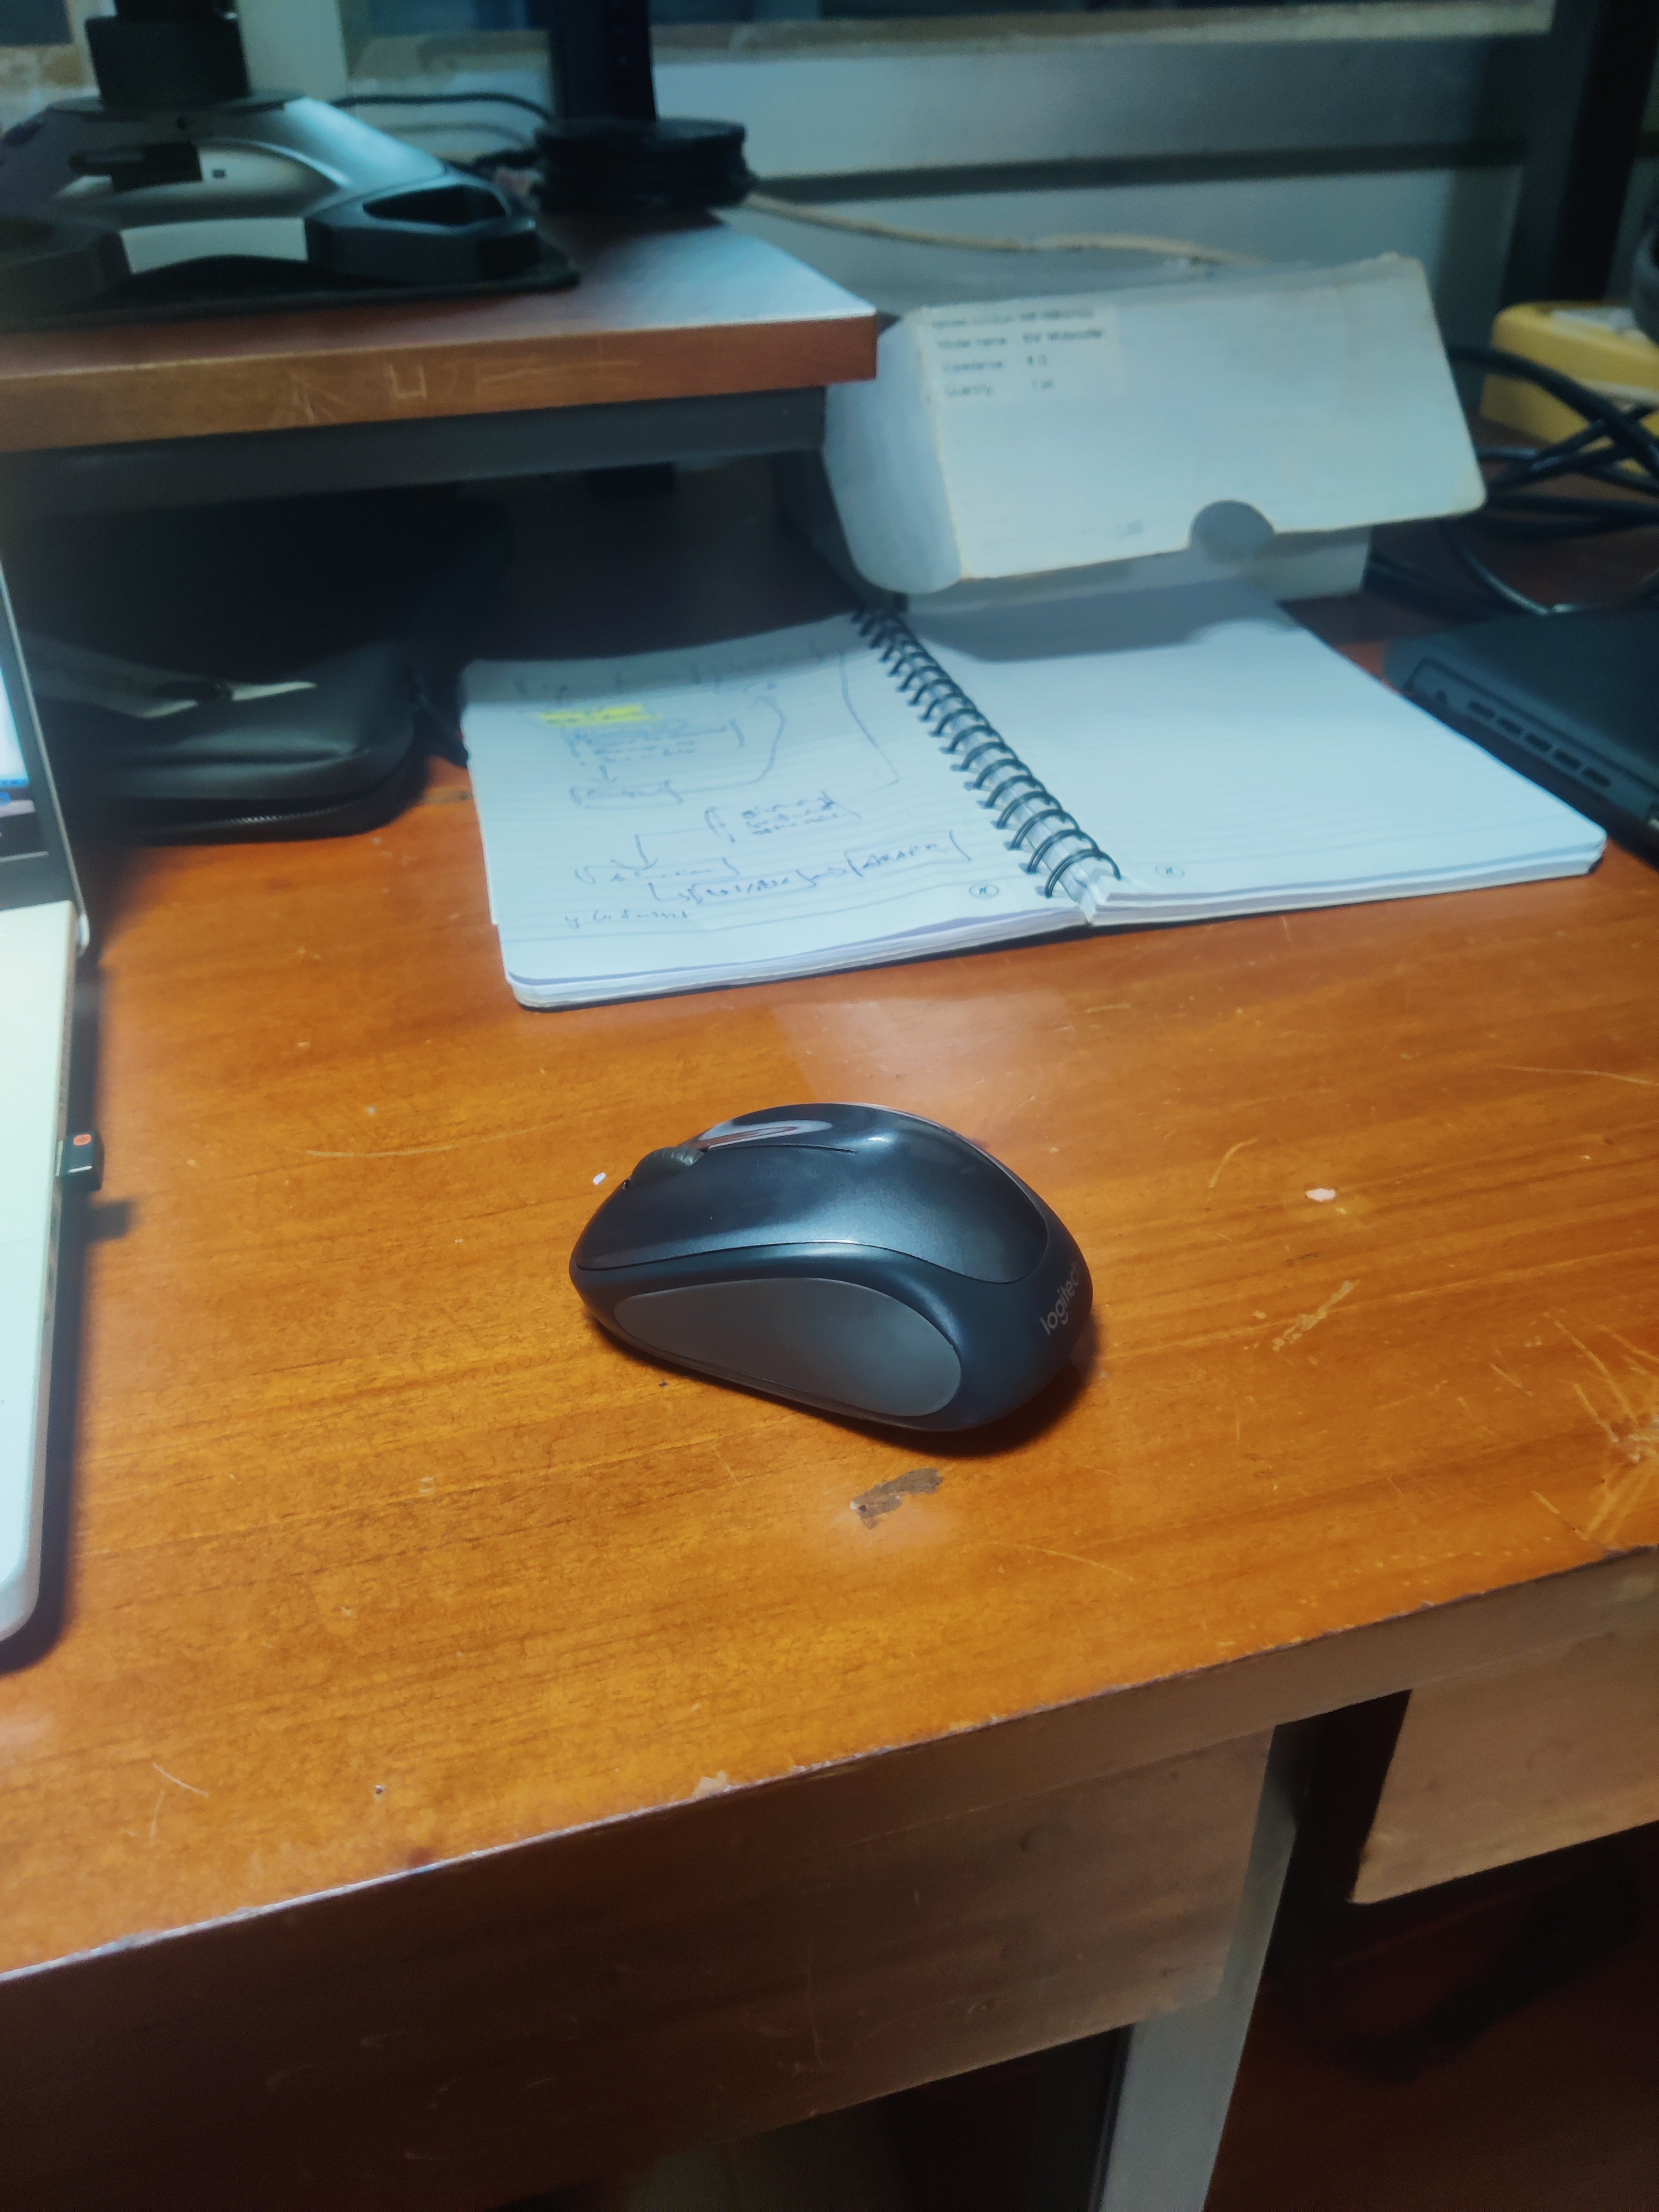logitechMouse: (563, 1089, 1114, 1470)
